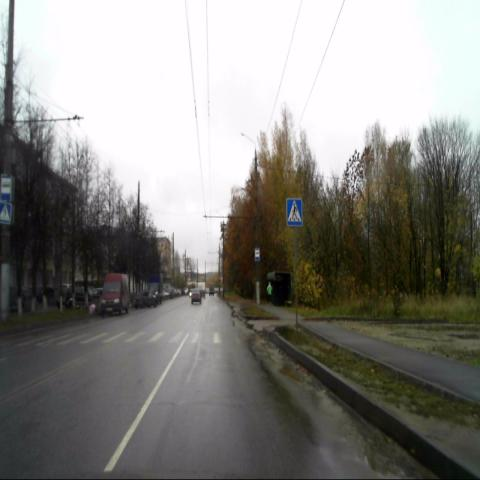5_16: (0, 174, 12, 202)
